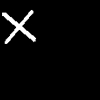single_crochet: (2, 10, 35, 43)
